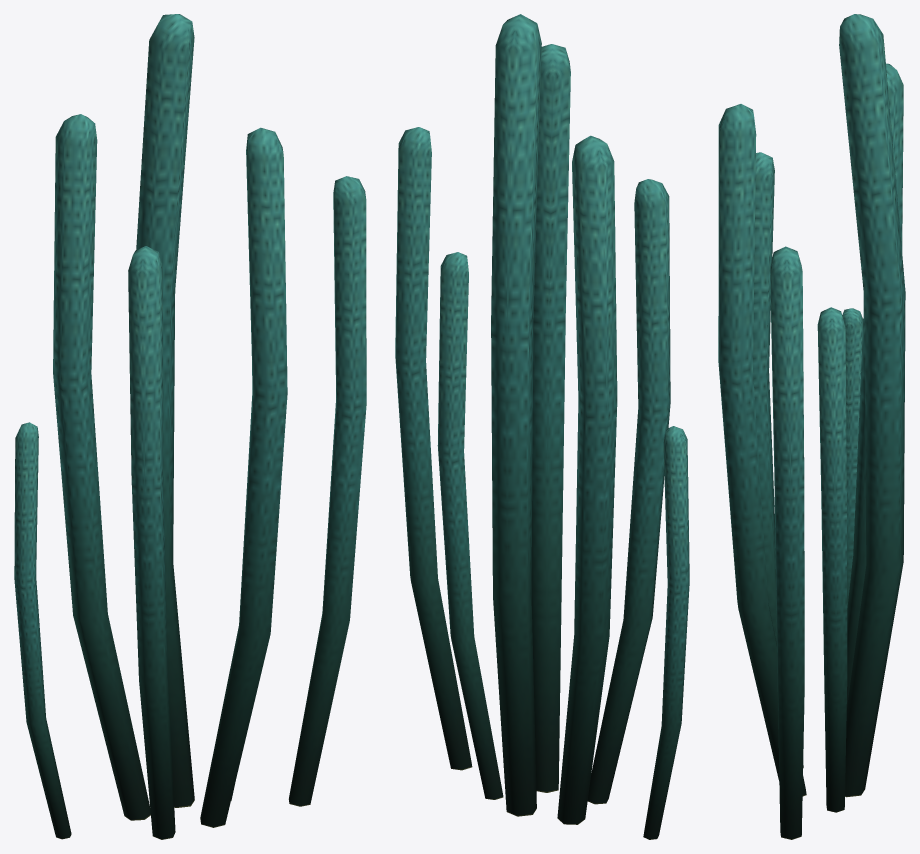
The model's file is Coral_38b.FBX.
The picture shows the model from 3 angles, left to right: view 1: azimuth 30°, elevation 25°; view 2: azimuth 150°, elevation 25°; view 3: azimuth 270°, elevation 25°; orthographic projection. The views are drawn at different scales.
Parts seen in each view (by area): view 1: Coral_38b; view 2: Coral_38b; view 3: Coral_38b.
Boxes of the visible parts, x1,y1,x2,y2 form: Coral_38b: [14, 14, 366, 839]; Coral_38b: [395, 14, 689, 839]; Coral_38b: [718, 14, 905, 839].
Bounding box in the file's own units: 23.9 × 56.27 × 12.27.
